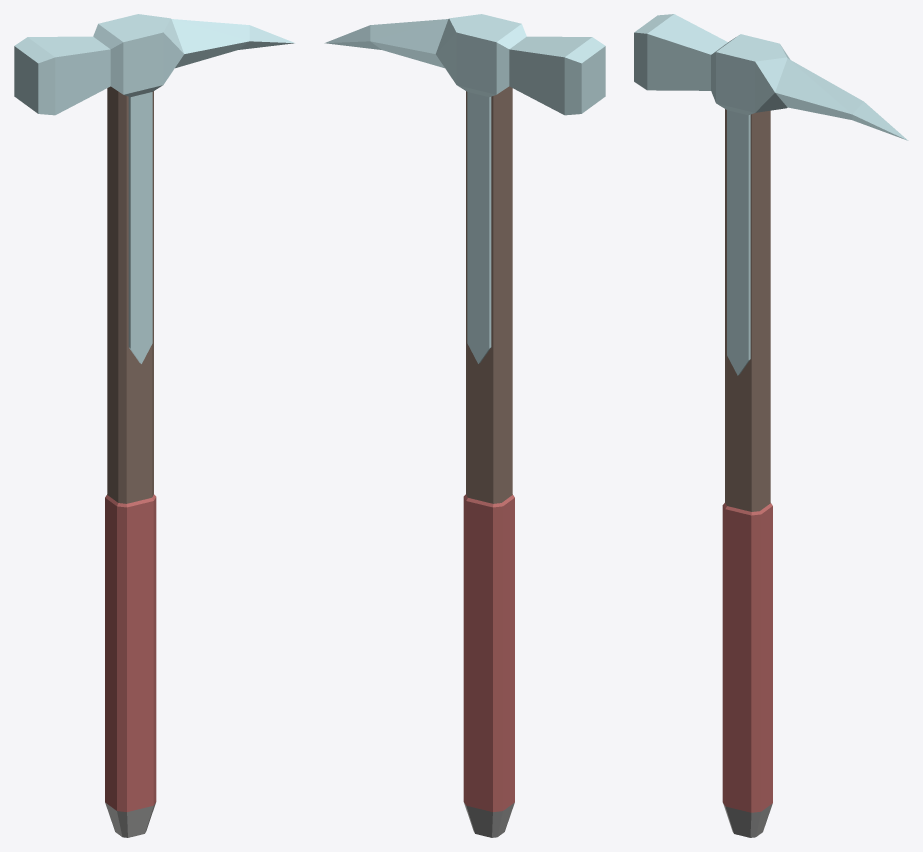
Rendered from warhammer.glb.
3 renders of one model, left to right at view 1: azimuth 30°, elevation 25°; view 2: azimuth 150°, elevation 25°; view 3: azimuth 330°, elevation 25°, orthographic. The views are drawn at different scales.
Visible parts, largest first — view 1: warhammer; view 2: warhammer; view 3: warhammer.
Part boxes in pixels (<box>): warhammer: <box>14,14,295,837</box>; warhammer: <box>324,14,605,837</box>; warhammer: <box>634,14,908,837</box>.
Size of the model in its own units: 0.4123 by 1.18 by 0.0735.
Materials: 1 (1 with a texture image).
